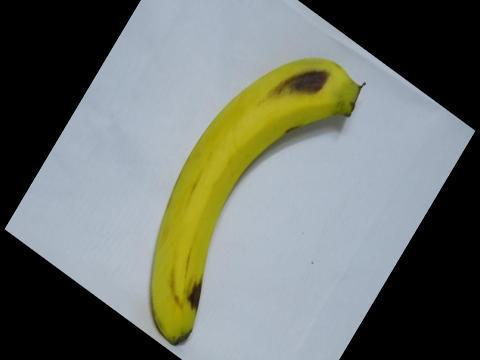freshripe: (127, 46, 389, 359)
